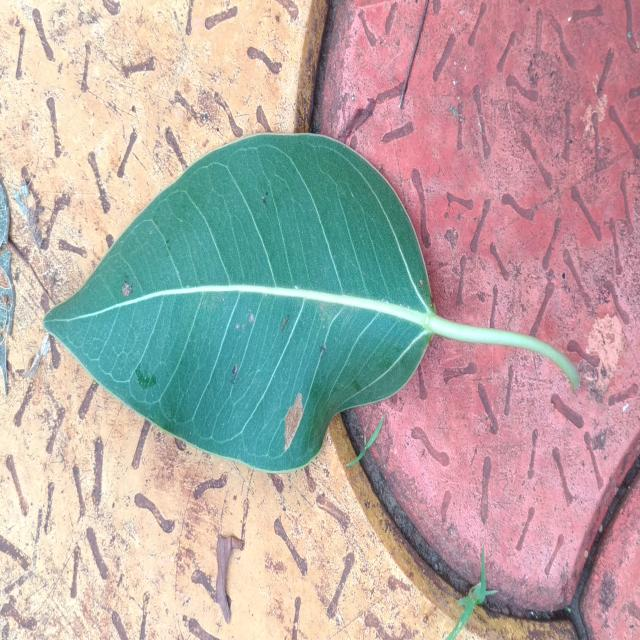camphor: (44, 133, 480, 473)
